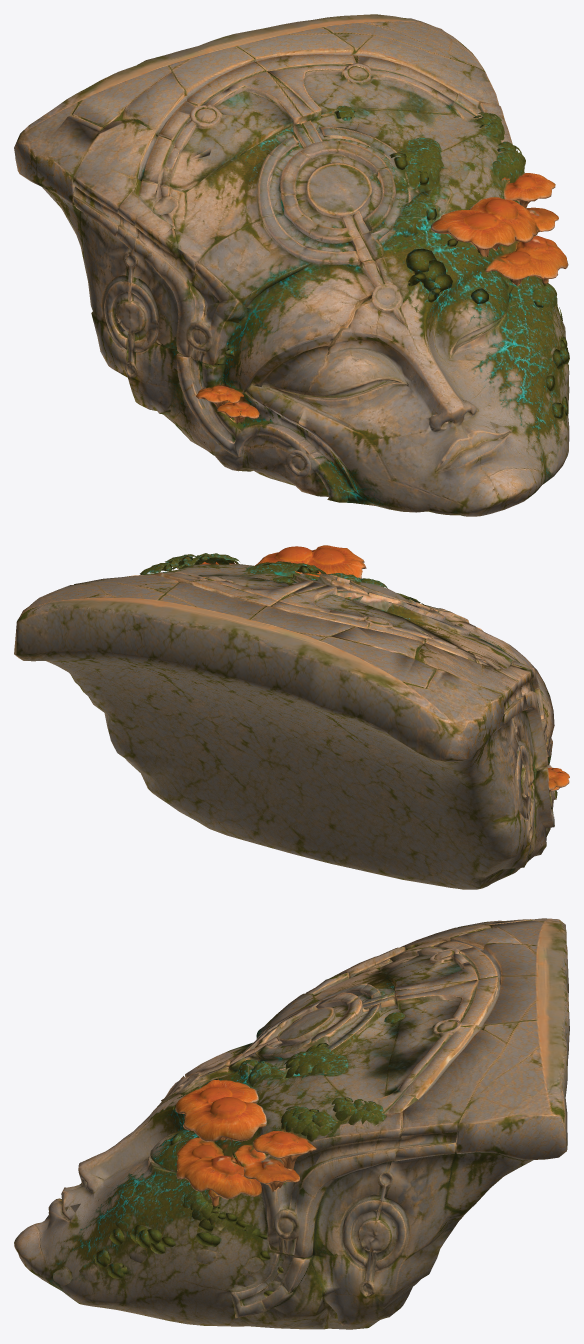
The model's file is citadel_head.glb.
3 renders of one model, top to bottom at view 1: azimuth 30°, elevation 25°; view 2: azimuth 150°, elevation 25°; view 3: azimuth 270°, elevation 25°, orthographic. The views are drawn at different scales.
Size of the model in its own units: 0.8589 by 0.5527 by 0.9575.
1 material, 1 textured.
